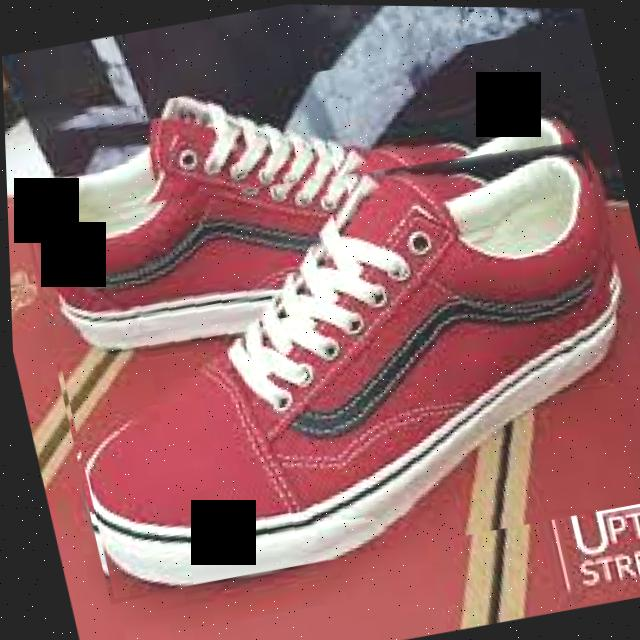shoe: (1, 18, 640, 611), (22, 112, 640, 605)
